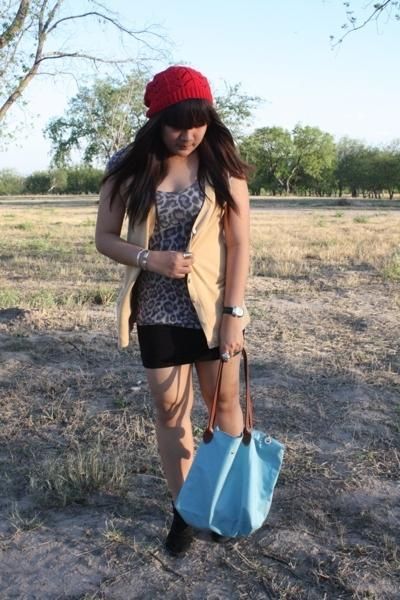bag: (175, 402, 283, 541)
hat: (144, 66, 211, 120)
jacket: (104, 187, 220, 346), (129, 180, 204, 331)
shoe: (161, 508, 235, 558)
skirt: (137, 323, 227, 368)
